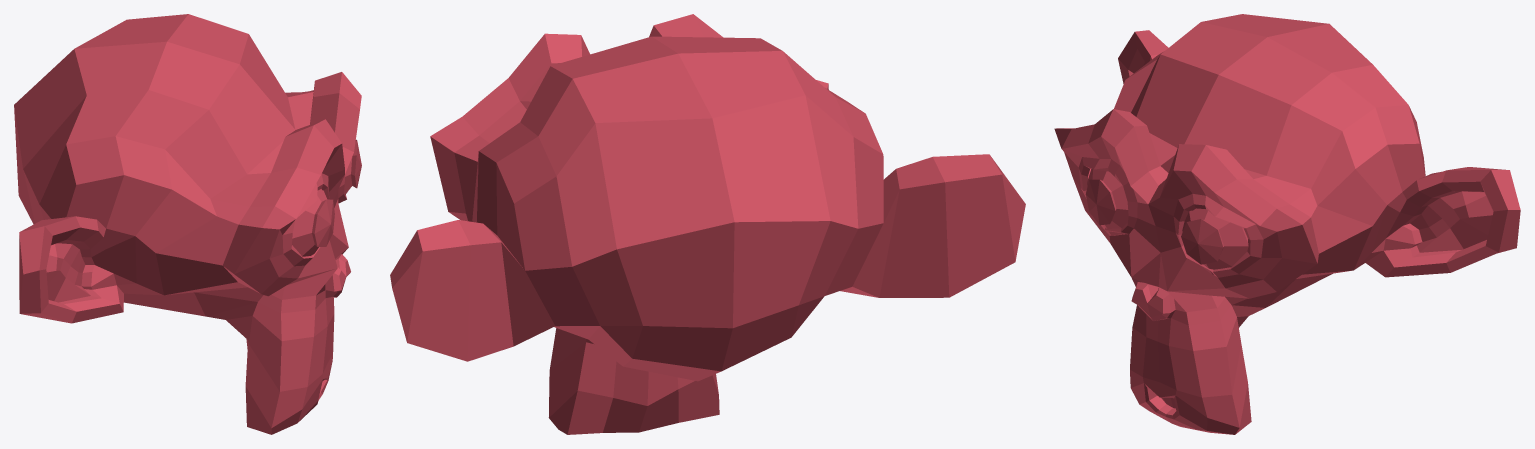
File: monkey_complex.dae
3 views of the same model, side by side, from view 1: azimuth 30°, elevation 25°; view 2: azimuth 150°, elevation 25°; view 3: azimuth 270°, elevation 25° (orthographic). The views are drawn at different scales.
Parts seen in each view (by area): view 1: Monkeykey; view 2: Monkeykey; view 3: Monkeykey.
Part boxes in pixels (x1,y1,x2,y2): Monkeykey: [14, 14, 361, 434]; Monkeykey: [390, 14, 1025, 434]; Monkeykey: [1054, 14, 1520, 434].
Size of the model in its own units: 2.31 by 2.38 by 1.97.
